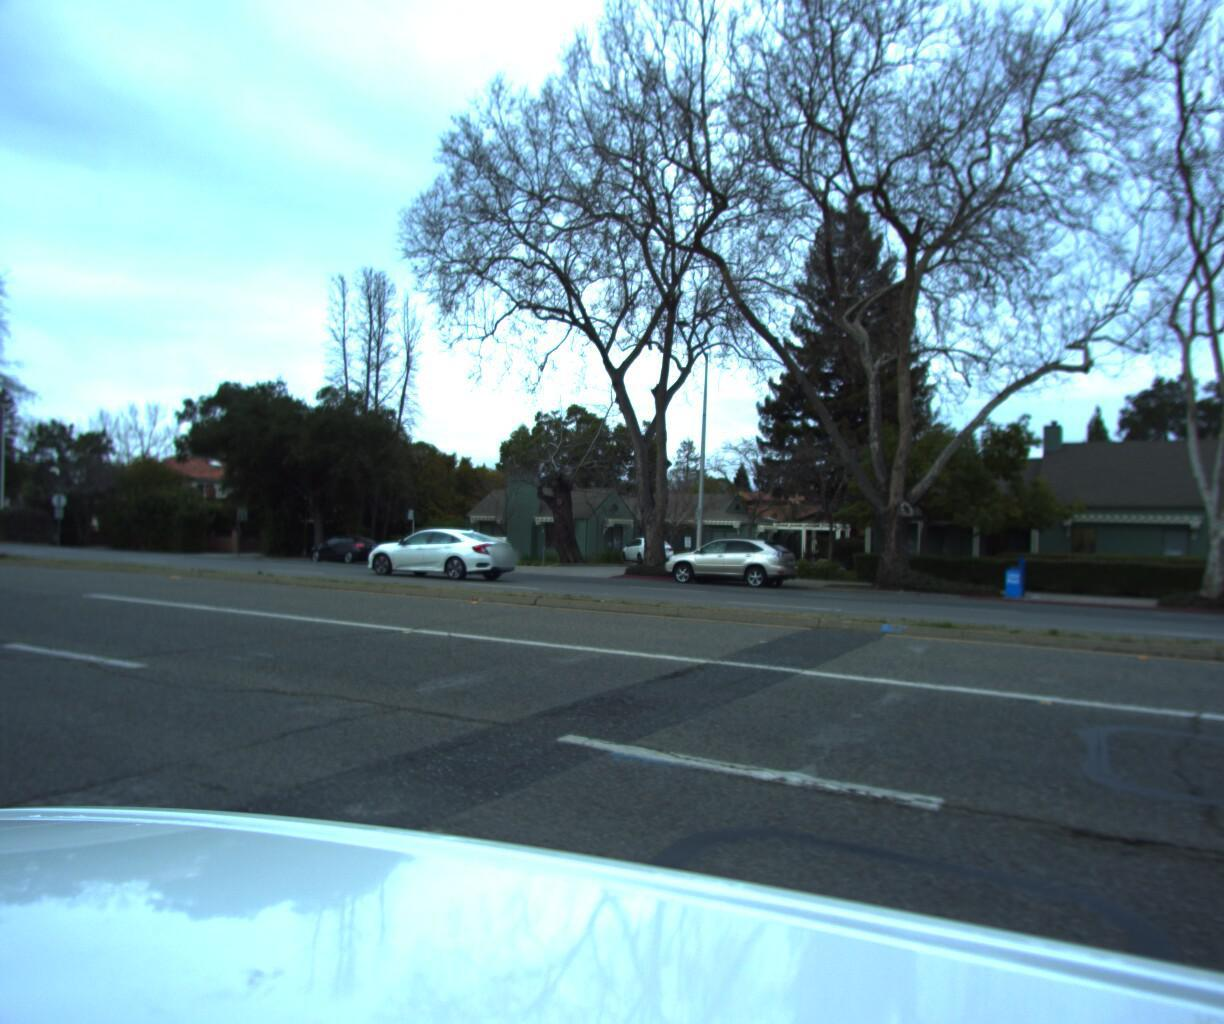car: (360, 517, 521, 577), (657, 532, 800, 586), (305, 528, 387, 563), (617, 530, 678, 561)
